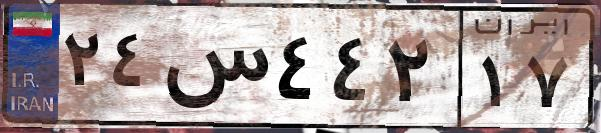1: (475, 38, 525, 113)
2: (385, 28, 445, 110), (57, 26, 110, 100)
4: (270, 28, 330, 110), (330, 28, 385, 110), (110, 28, 158, 98)
7: (525, 38, 570, 115)
س: (158, 20, 270, 120)
